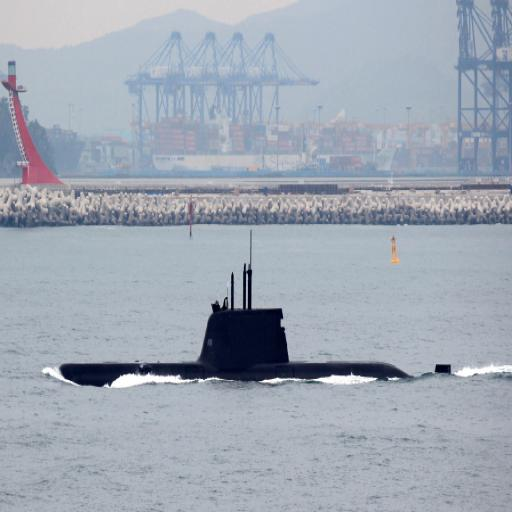submarine: (51, 233, 454, 380)
